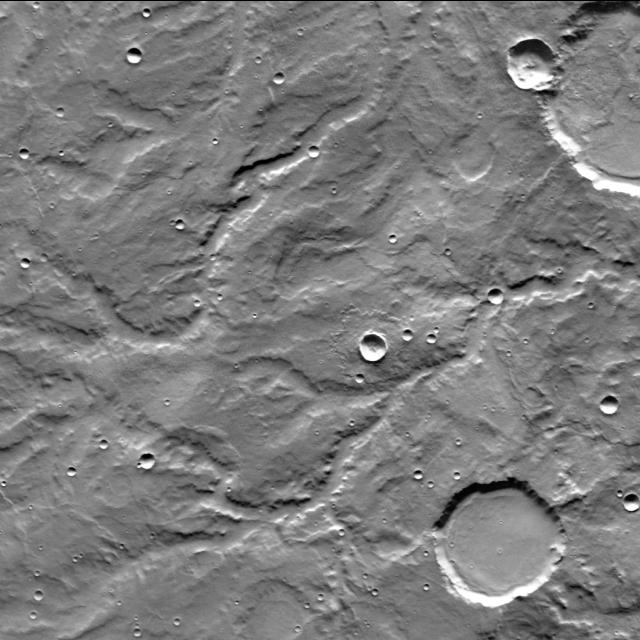crater: (540, 6, 640, 200), (436, 485, 564, 614), (240, 589, 329, 640), (507, 44, 557, 94), (453, 140, 498, 184), (362, 340, 388, 366), (556, 384, 578, 406), (111, 478, 132, 501), (250, 248, 271, 269), (604, 400, 623, 420), (625, 500, 640, 518), (141, 459, 157, 475), (126, 54, 142, 70), (491, 294, 506, 310), (308, 152, 320, 164), (274, 78, 284, 89), (407, 338, 417, 348), (21, 264, 31, 274), (428, 339, 438, 349), (177, 226, 187, 236), (356, 378, 366, 388), (101, 446, 110, 456), (23, 154, 32, 164), (416, 477, 425, 486), (56, 113, 65, 122), (143, 15, 151, 24), (41, 260, 50, 268), (455, 480, 463, 488), (70, 474, 78, 482), (36, 598, 44, 606), (391, 241, 398, 249), (37, 611, 44, 618), (138, 629, 146, 635), (40, 1, 46, 8), (262, 56, 268, 62), (624, 489, 630, 495), (202, 300, 208, 306), (180, 618, 186, 624), (347, 528, 352, 534), (454, 248, 459, 254)
